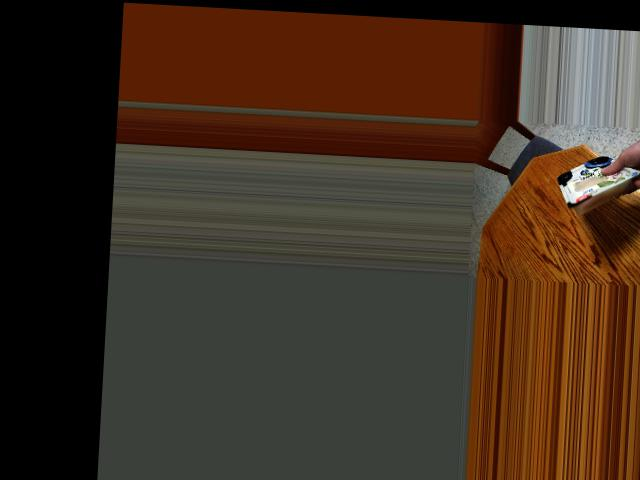cheese: (558, 143, 628, 224)
